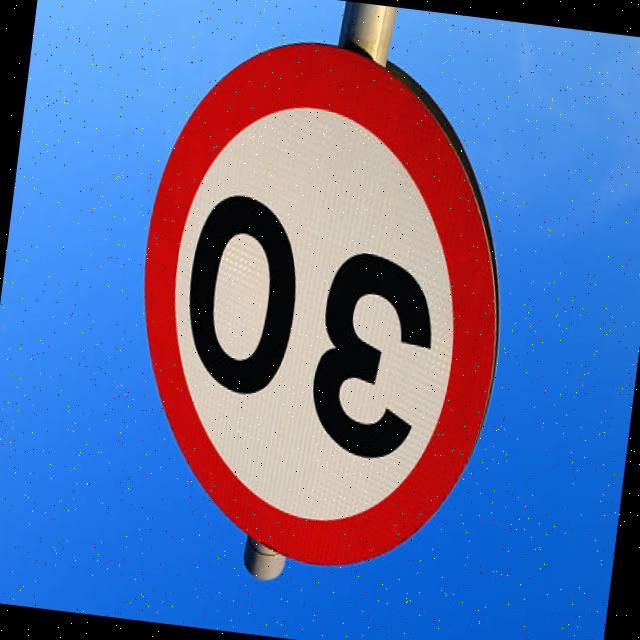speed_limit_30: (98, 16, 534, 599)
